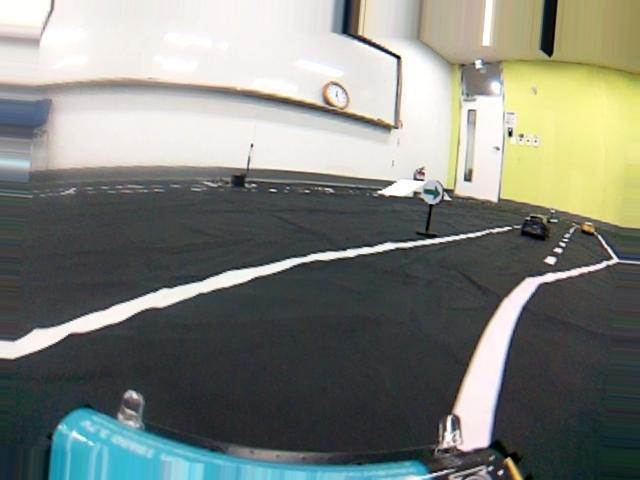car: (521, 215, 553, 241)
right: (5, 251, 625, 480)
sign_right: (423, 178, 444, 204)
